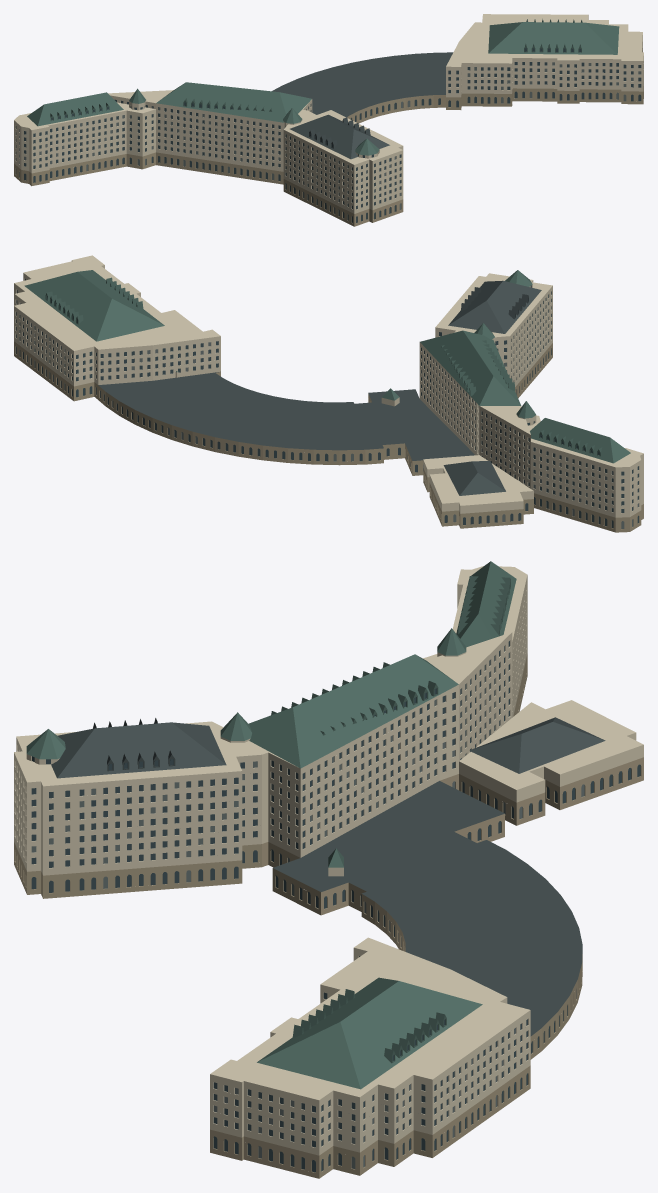
File: fairmont-chateau-lake-louise-near.glb
3 views of the same model, one above another, from view 1: azimuth 30°, elevation 25°; view 2: azimuth 150°, elevation 25°; view 3: azimuth 270°, elevation 25° (orthographic). The views are drawn at different scales.
Parts seen in each view (by area): view 1: fairmont-chateau-lake-louise-0-stone, fairmont-chateau-lake-louise-0-copper, fairmont-chateau-lake-louise-0-roof, fairmont-chateau-lake-louise-0-base, fairmont-chateau-lake-louise-0-glass, fairmont-chateau-lake-louise-0-glow; view 2: fairmont-chateau-lake-louise-0-stone, fairmont-chateau-lake-louise-0-roof, fairmont-chateau-lake-louise-0-copper, fairmont-chateau-lake-louise-0-base, fairmont-chateau-lake-louise-0-glass, fairmont-chateau-lake-louise-0-glow; view 3: fairmont-chateau-lake-louise-0-stone, fairmont-chateau-lake-louise-0-roof, fairmont-chateau-lake-louise-0-copper, fairmont-chateau-lake-louise-0-base, fairmont-chateau-lake-louise-0-glass, fairmont-chateau-lake-louise-0-glow.
Part boxes in pixels (x1,y1,x2,y2): fairmont-chateau-lake-louise-0-stone: (14, 14, 643, 213); fairmont-chateau-lake-louise-0-copper: (27, 19, 619, 155); fairmont-chateau-lake-louise-0-roof: (272, 52, 453, 159); fairmont-chateau-lake-louise-0-base: (14, 86, 643, 226); fairmont-chateau-lake-louise-0-glass: (15, 48, 641, 222); fairmont-chateau-lake-louise-0-glow: (15, 62, 641, 213); fairmont-chateau-lake-louise-0-stone: (14, 255, 643, 517); fairmont-chateau-lake-louise-0-roof: (98, 280, 541, 495); fairmont-chateau-lake-louise-0-copper: (24, 270, 630, 463); fairmont-chateau-lake-louise-0-base: (14, 341, 643, 532); fairmont-chateau-lake-louise-0-glass: (15, 279, 638, 528); fairmont-chateau-lake-louise-0-glow: (27, 306, 638, 528); fairmont-chateau-lake-louise-0-stone: (14, 566, 643, 1155); fairmont-chateau-lake-louise-0-roof: (51, 717, 605, 1036); fairmont-chateau-lake-louise-0-copper: (26, 561, 516, 1089); fairmont-chateau-lake-louise-0-base: (14, 653, 643, 1178); fairmont-chateau-lake-louise-0-glass: (31, 619, 640, 1172); fairmont-chateau-lake-louise-0-glow: (31, 646, 584, 1168).
Bounding box in the file's own units: 307 × 40 × 160.
